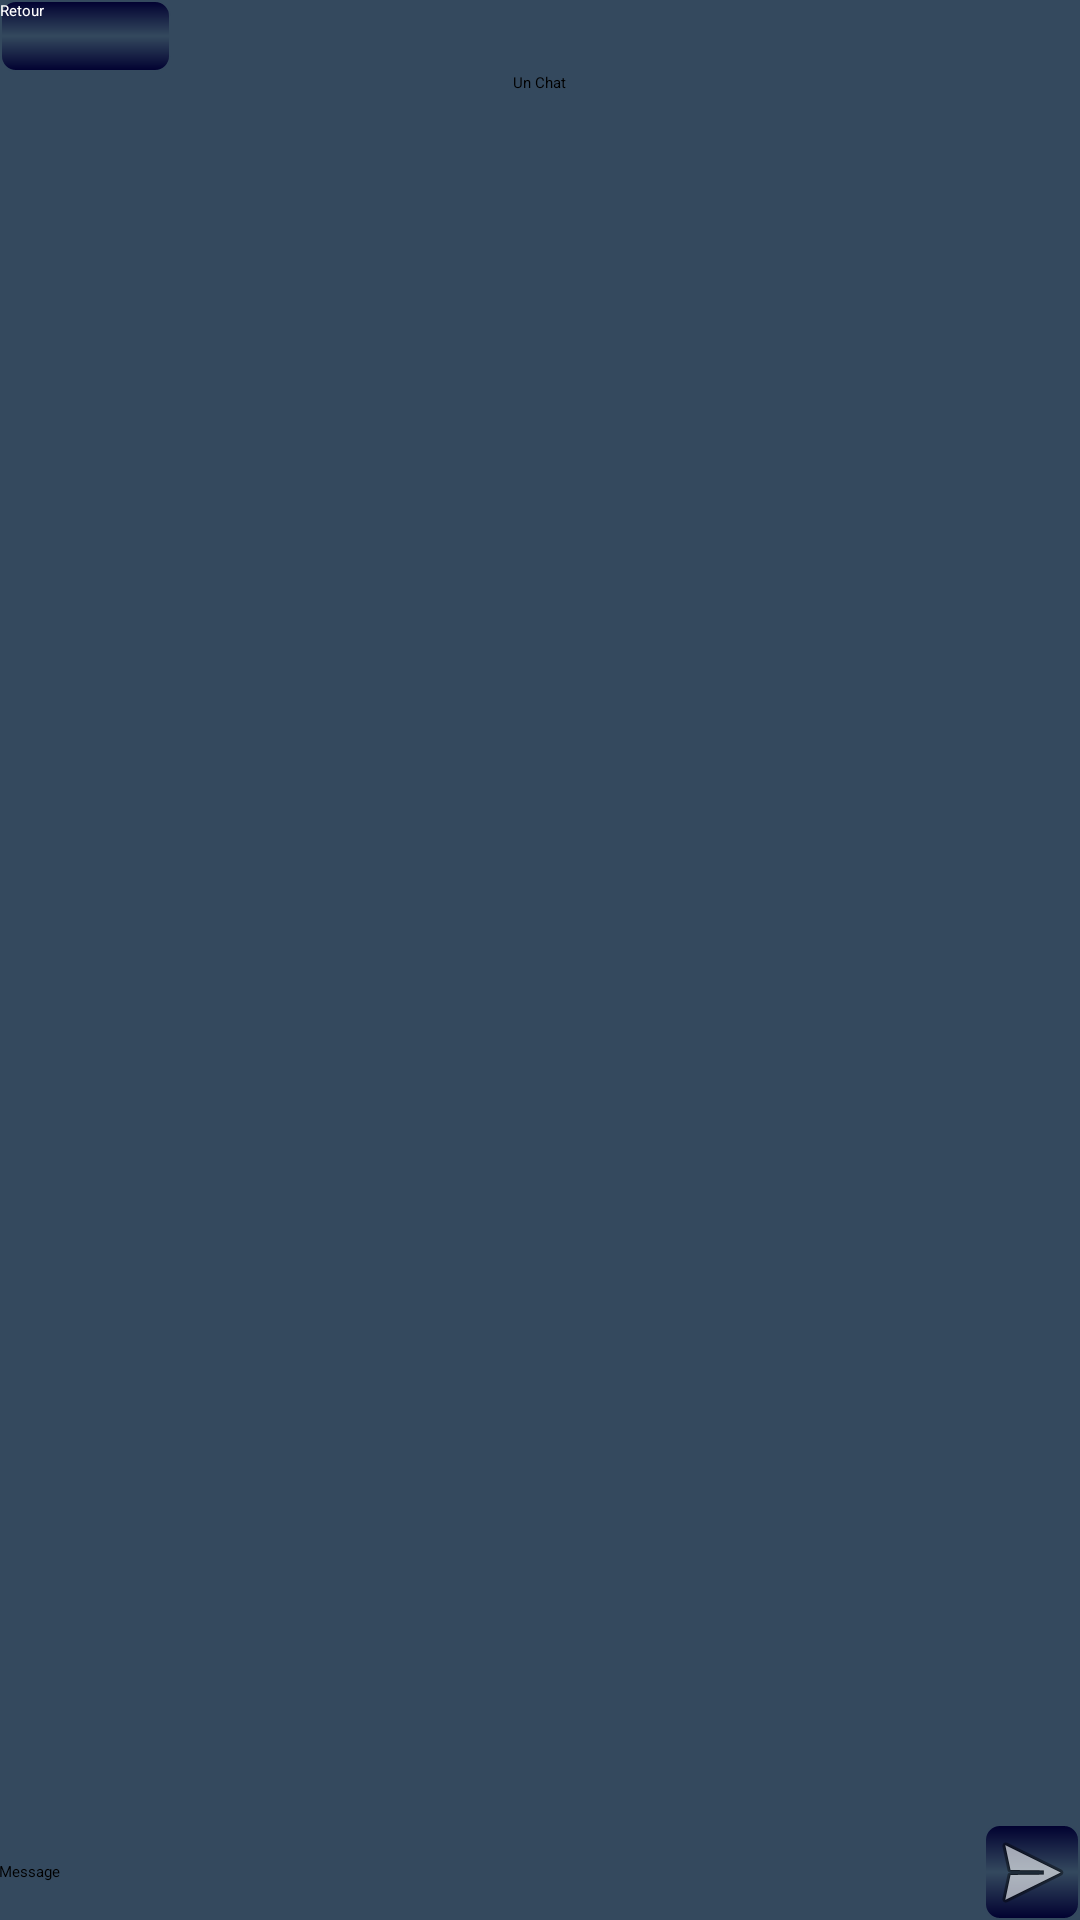

Where to tap for icons on this 1080px x 1920px app screen, as point (x, y):
Send: point (1032, 1872)
